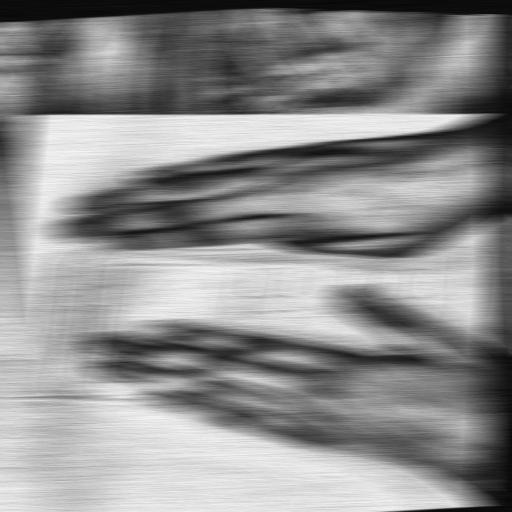mobile: (3, 235, 497, 407)
top_right: (18, 109, 39, 117)
